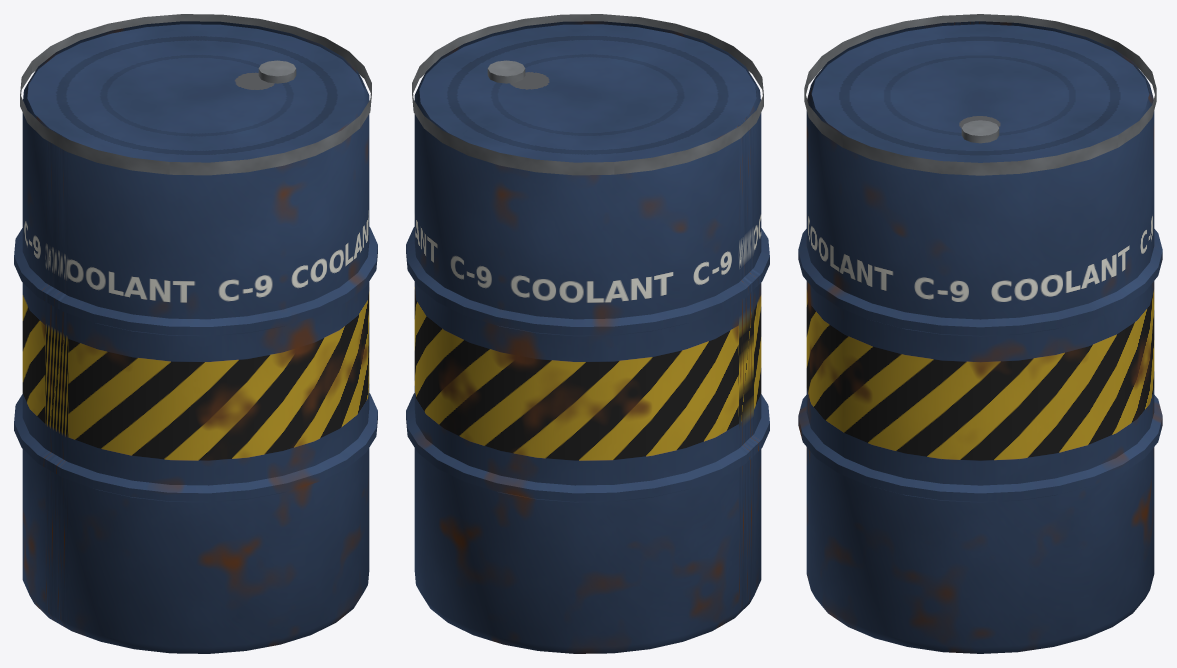
The model's file is prop_barrel.glb.
3 views of the same model, side by side, from view 1: azimuth 30°, elevation 25°; view 2: azimuth 150°, elevation 25°; view 3: azimuth 270°, elevation 25° (orthographic).
Visible parts, largest first — view 1: prop_barrel; view 2: prop_barrel; view 3: prop_barrel.
Boxes of the visible parts, box(x1,y1,x2,y2) form: prop_barrel: box(14, 14, 377, 653); prop_barrel: box(406, 14, 769, 653); prop_barrel: box(798, 14, 1162, 653).
Size of the model in its own units: 0.776 by 1.16 by 0.776.
3 materials, 3 textured.
